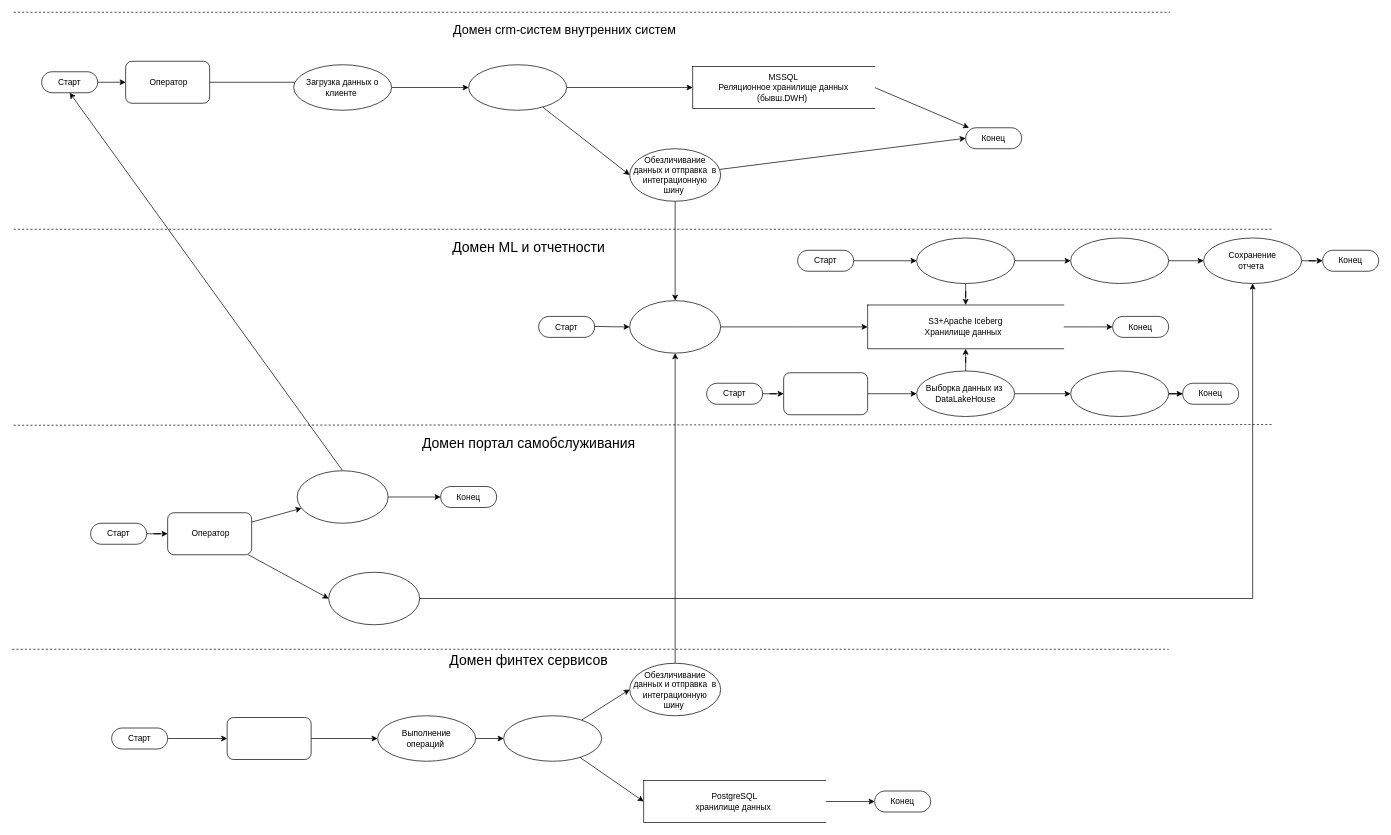
Some shapes in this 1391 by 835 pixel diagram are drawn without their labels. The centre of each missing label's shape, as x and y in pixels:
ML-инженер: [825,393]
Выборка метаданных из DataLakeHouse: [965,260]
Запрос отчета: [374,598]
Клиент: [268,738]
Обработка данных в интеграционной шине: [675,326]
Обработка и шифрование данных: [552,738]
Обработка и шифрование данных клиента: [517,87]
Обучение модели: [1119,393]
Построение BI-отчета: [1119,260]
Сохрание данных: [342,496]
